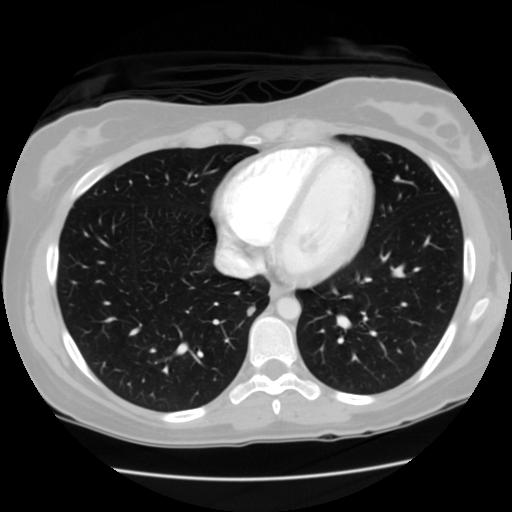nodule: (243, 302, 259, 318)
